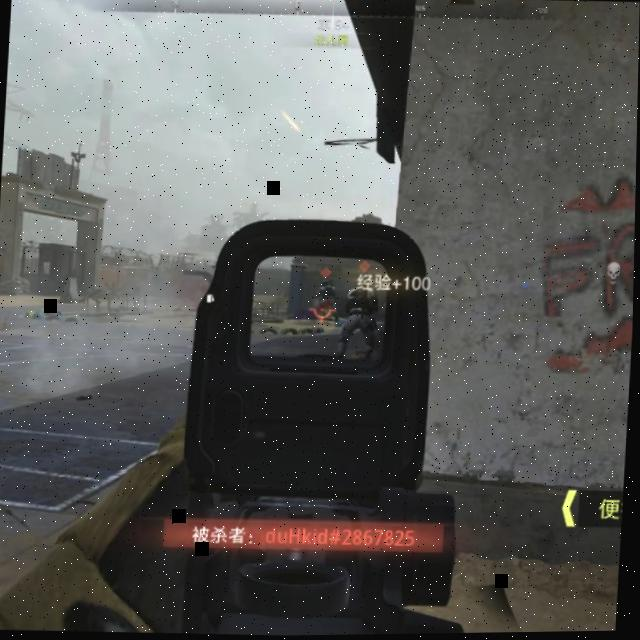MW2_body: (338, 260, 386, 363), (316, 267, 342, 324)
